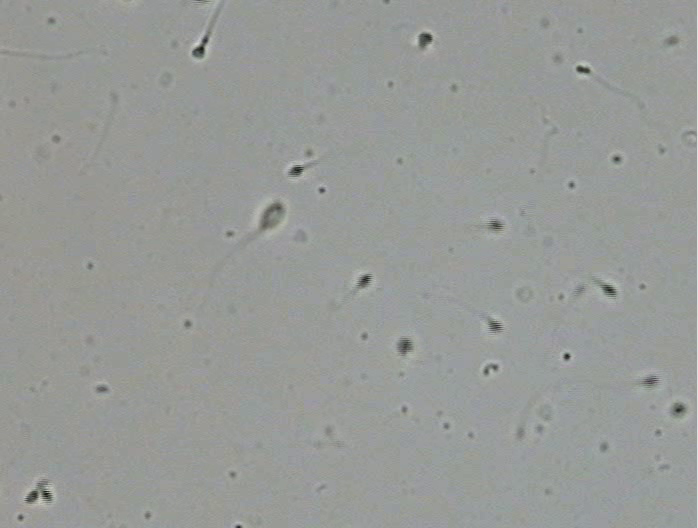S: (260, 202, 286, 231), (396, 337, 413, 356), (600, 282, 617, 298), (356, 273, 372, 289), (488, 318, 504, 334), (417, 32, 433, 48), (40, 488, 54, 505), (487, 218, 504, 232), (643, 375, 660, 388), (24, 490, 39, 504), (287, 164, 303, 177), (192, 45, 205, 59), (672, 403, 686, 416), (575, 64, 591, 75)
